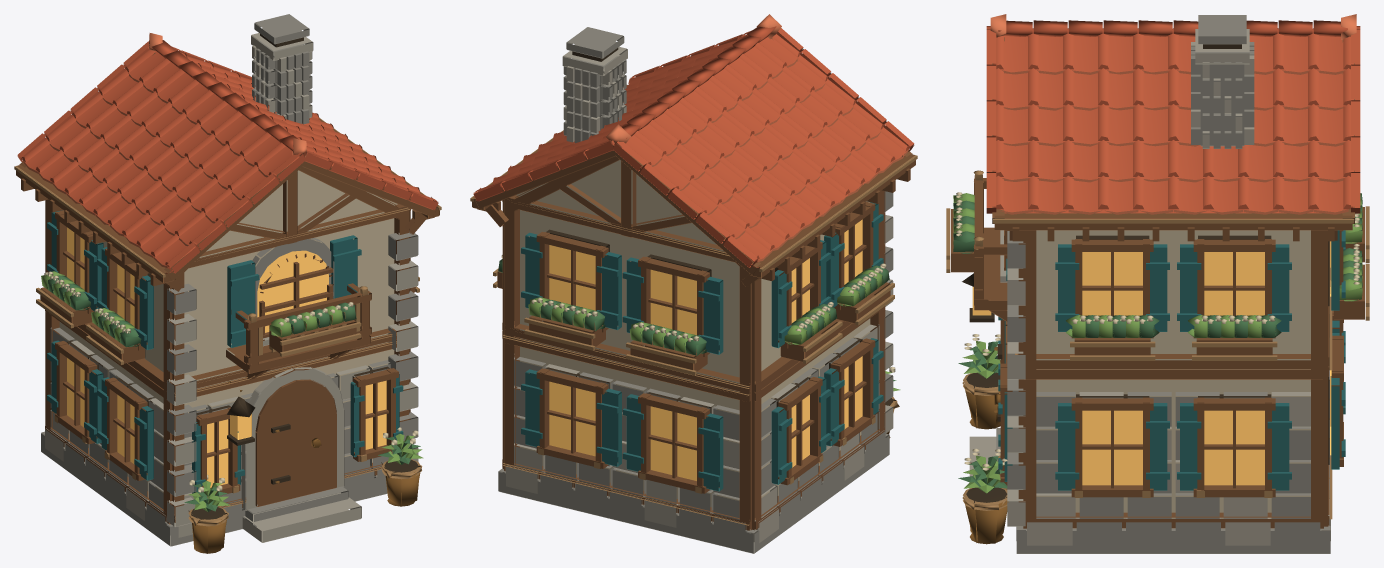
The picture shows the model from 3 angles, left to right: view 1: azimuth 30°, elevation 25°; view 2: azimuth 150°, elevation 25°; view 3: azimuth 270°, elevation 25°; orthographic projection. The views are drawn at different scales.
Parts seen in each view (by area): view 1: alpine_tower_2_geometry, alpine_tower_2_geometry ceramic; view 2: alpine_tower_2_geometry, alpine_tower_2_geometry ceramic; view 3: alpine_tower_2_geometry, alpine_tower_2_geometry ceramic.
Part boxes in pixels (x1,y1,x2,y2): alpine_tower_2_geometry: (14,14,441,553); alpine_tower_2_geometry ceramic: (17,33,438,273); alpine_tower_2_geometry: (470,27,917,553); alpine_tower_2_geometry ceramic: (473,14,914,267); alpine_tower_2_geometry: (946,15,1369,553); alpine_tower_2_geometry ceramic: (986,14,1360,218).
Size of the model in its own units: 0.882 by 1.16 by 0.8886.
